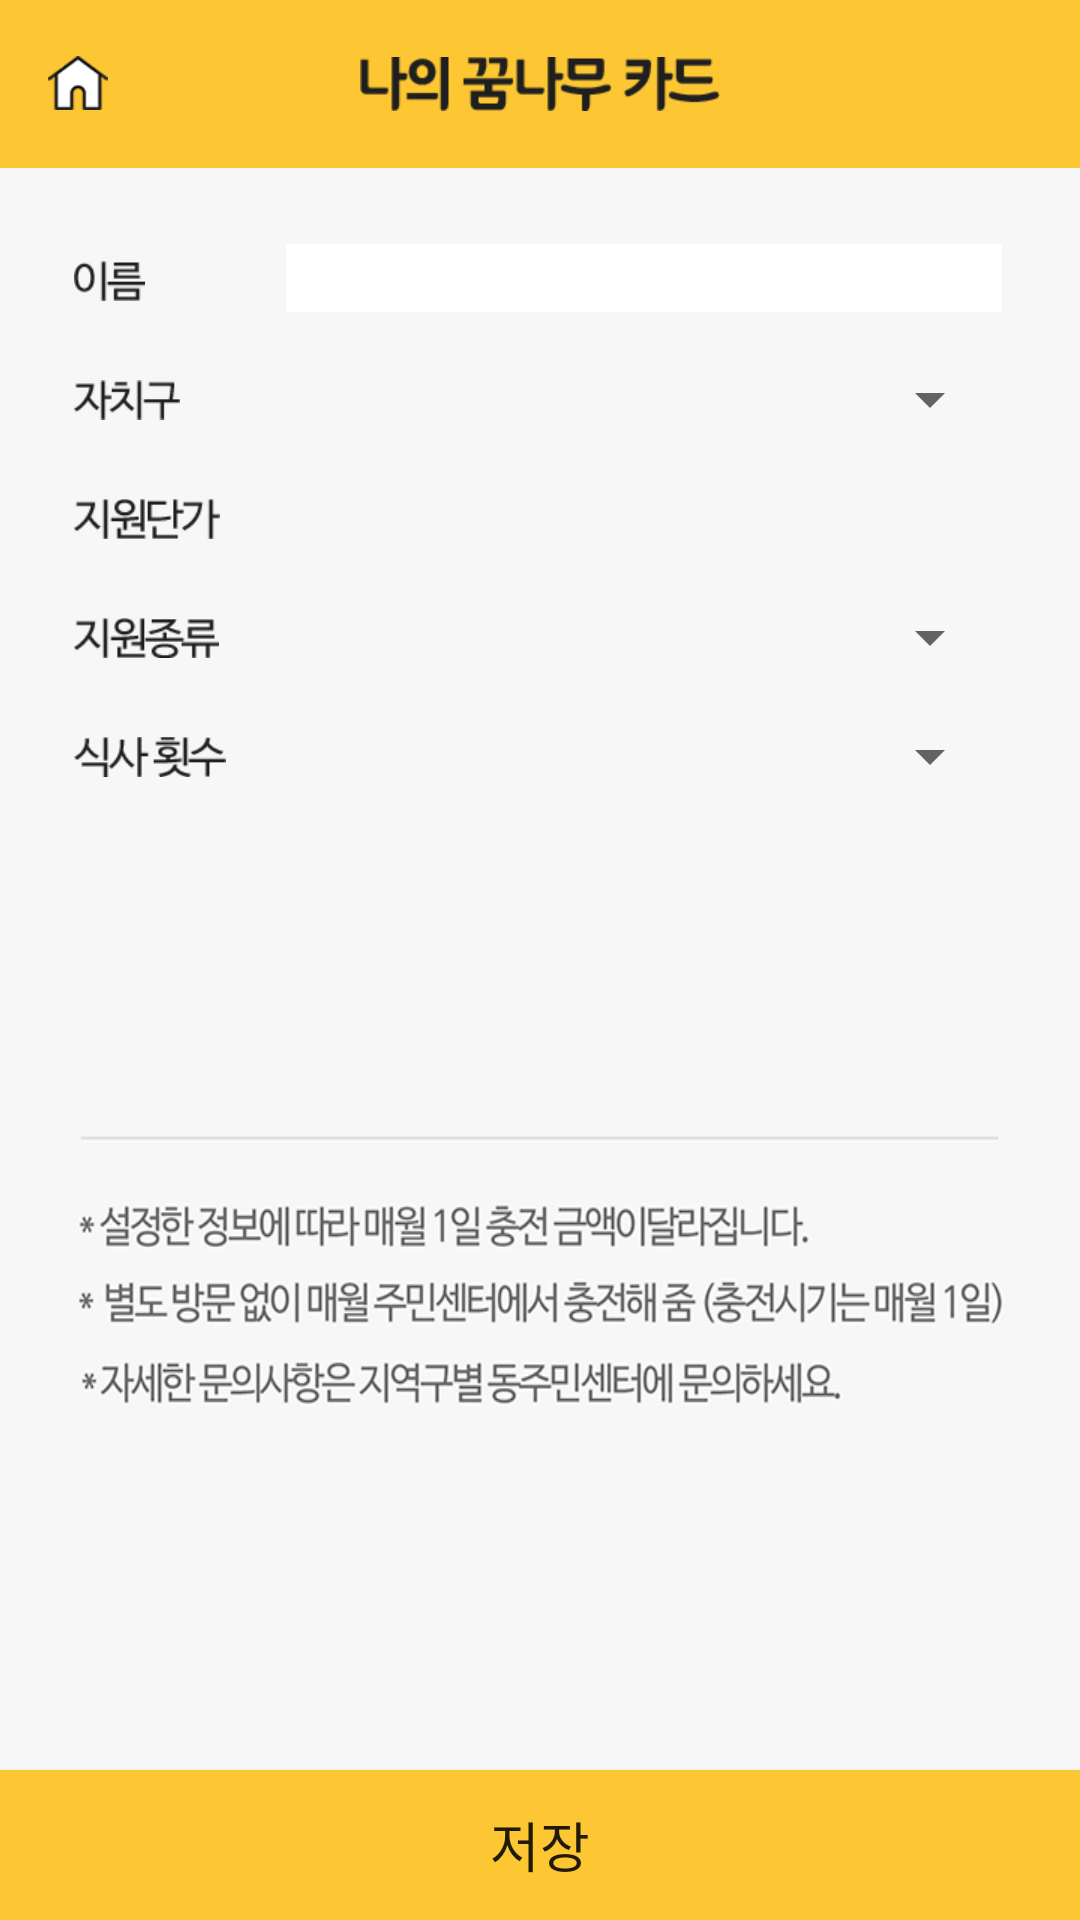

Where icons sit on this 1080 × 1920 app screen, as (left=x1, top=y1, right=x2, bottom=y2):
card home: (left=48, top=56, right=108, bottom=110)
